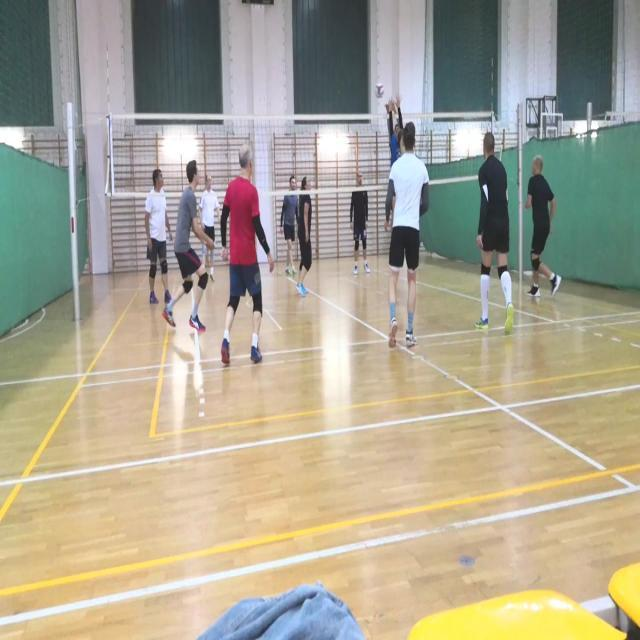volleyball: (374, 84, 384, 98)
